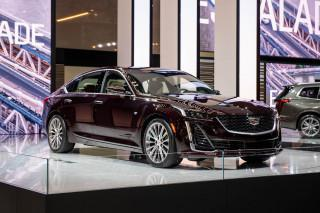cadillac: (245, 114, 264, 127)
